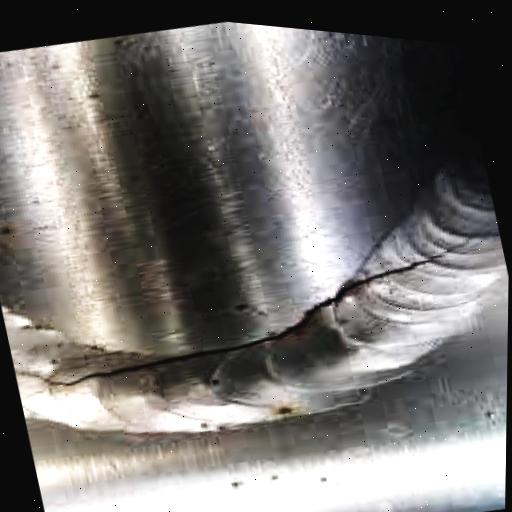crack: (18, 207, 466, 434)
